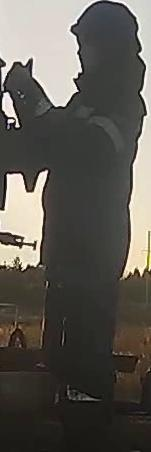gloves: (2, 56, 45, 115)
helmet: (69, 0, 145, 56)
vest: (44, 88, 143, 270)
